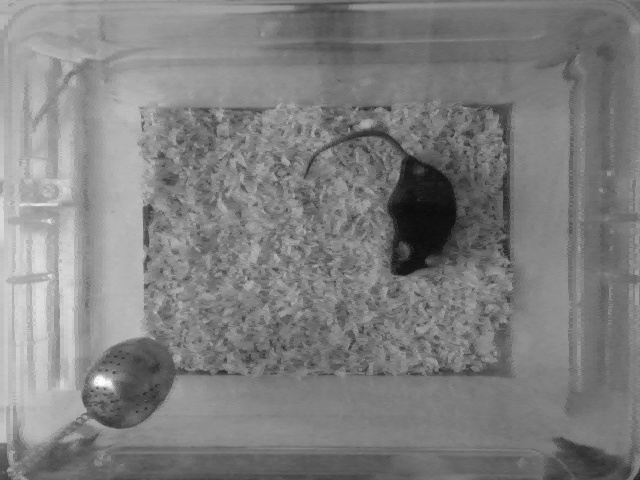mice: (307, 126, 459, 278)
